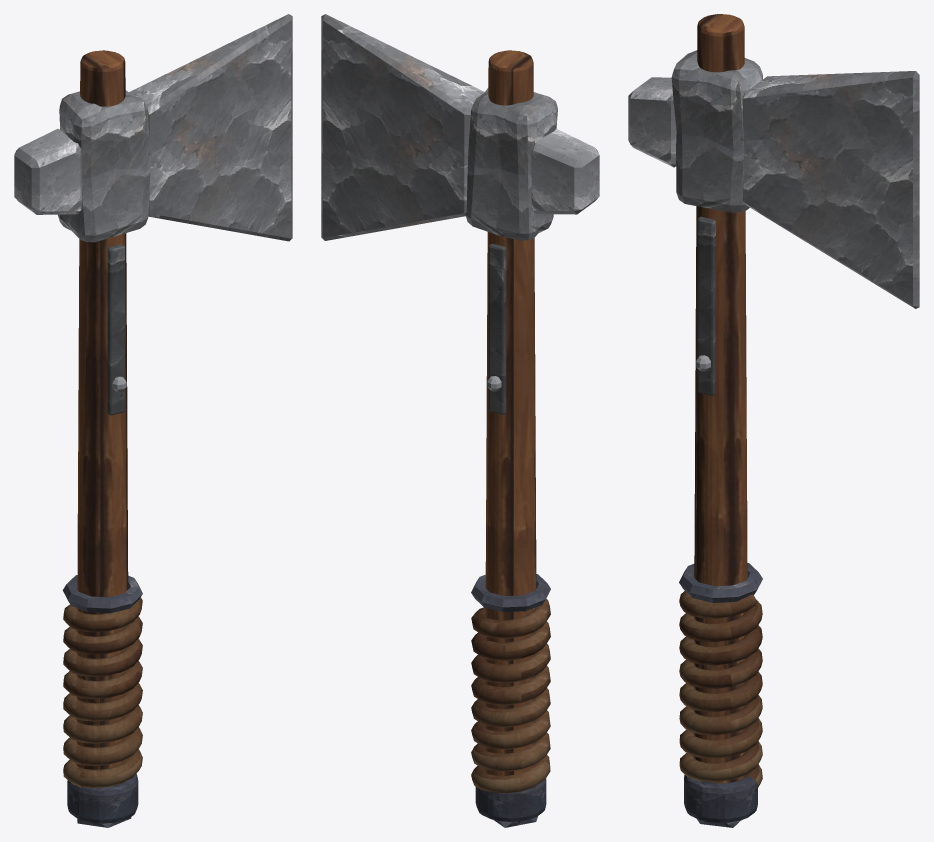
File: axe_silver.glb
The picture shows the model from 3 angles, left to right: view 1: azimuth 30°, elevation 25°; view 2: azimuth 150°, elevation 25°; view 3: azimuth 330°, elevation 25°; orthographic projection. The views are drawn at different scales.
Visible parts, largest first — view 1: model; view 2: model; view 3: model.
Part boxes in pixels (x1,y1,x2,y2): model: [14, 14, 292, 827]; model: [321, 14, 599, 827]; model: [628, 14, 919, 827].
Size of the model in its own units: 0.27 by 0.7306 by 0.0701.
8 materials, 7 textured.
